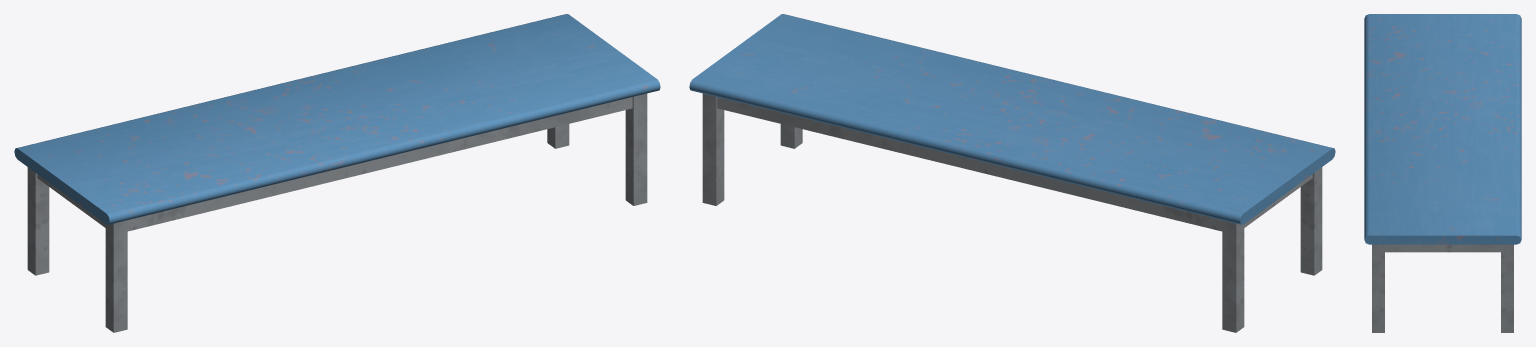
File: Bench_1.fbx
3 views of the same model, side by side, from view 1: azimuth 30°, elevation 25°; view 2: azimuth 150°, elevation 25°; view 3: azimuth 270°, elevation 25° (orthographic). The views are drawn at different scales.
Parts seen in each view (by area): view 1: Bench_1; view 2: Bench_1; view 3: Bench_1.
Boxes of the visible parts, x1=… form: Bench_1: x1=14, y1=14, x2=660, y2=332; Bench_1: x1=689, y1=14, x2=1335, y2=332; Bench_1: x1=1364, y1=14, x2=1521, y2=332.
Bounding box in the file's own units: 2 × 0.425 × 0.6.
